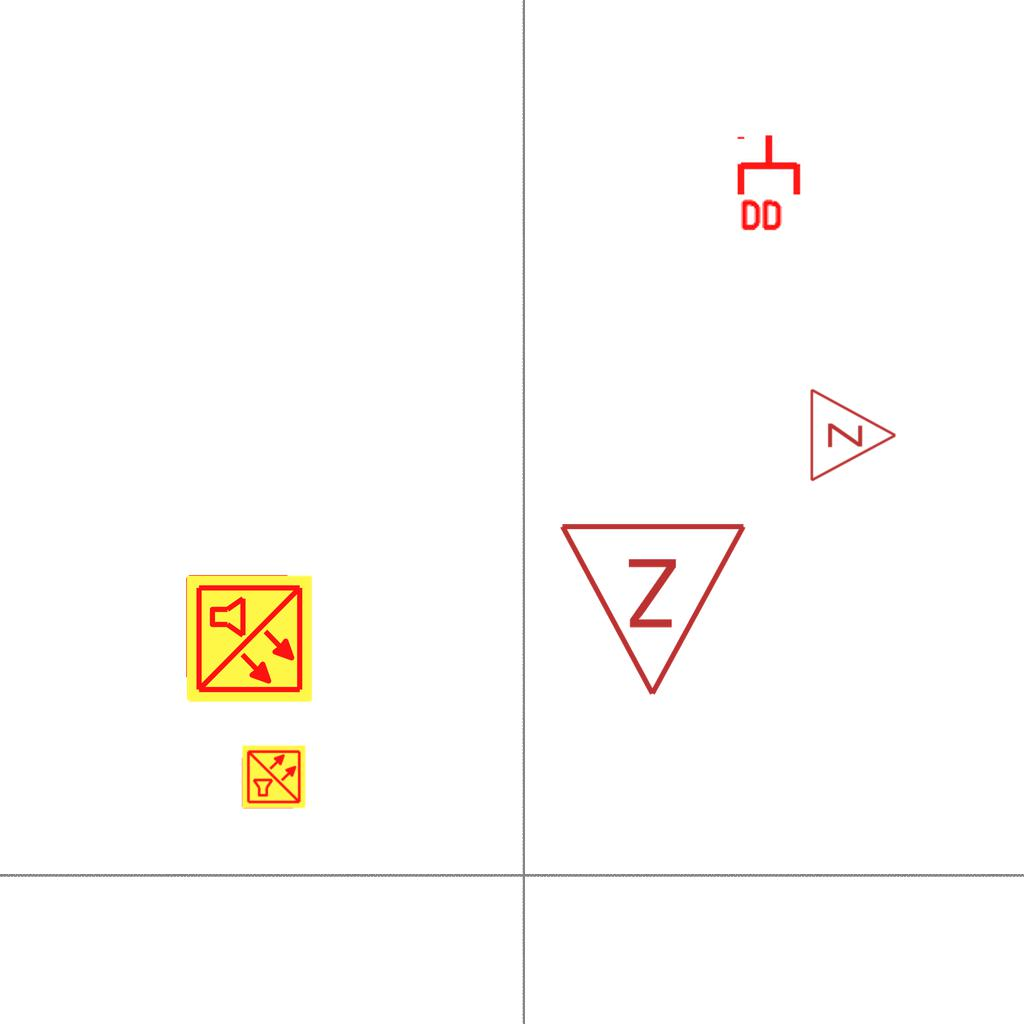Datenanschluss_zweifach: (736, 132, 805, 235)
OKW_Multisensormelder_(Kombination_optischer_Rauch-Kahlenmonoxid_Waerme-Melder): (183, 573, 315, 705), (241, 744, 307, 810)
Zimmersignalleuchte: (557, 509, 753, 709), (803, 385, 903, 483)
